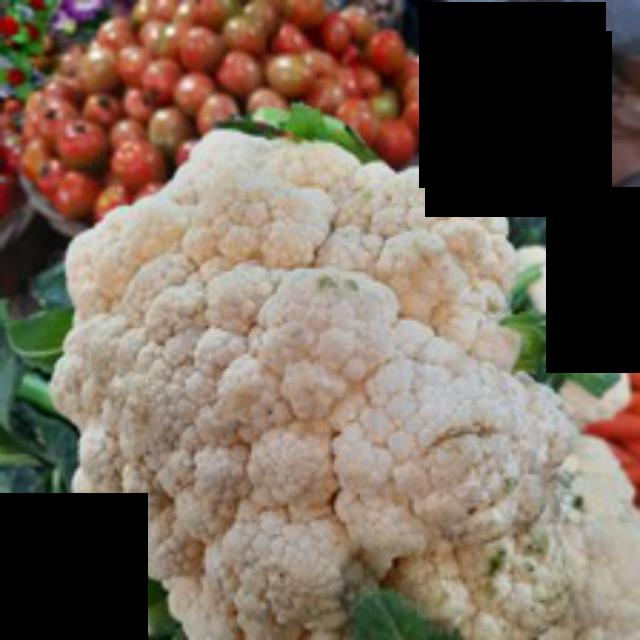cauliflower: (51, 123, 637, 637)
